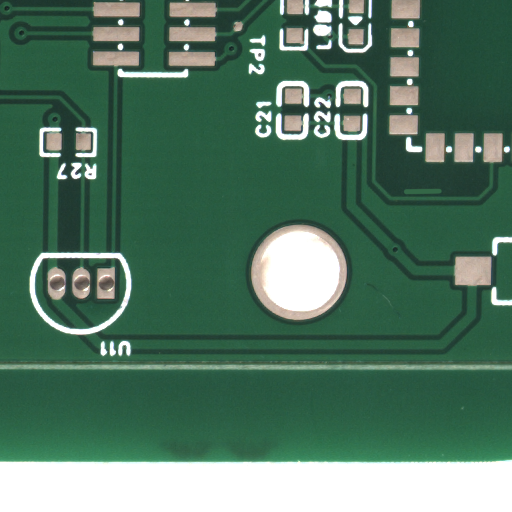Spurious_copper: (423, 190, 463, 199)
